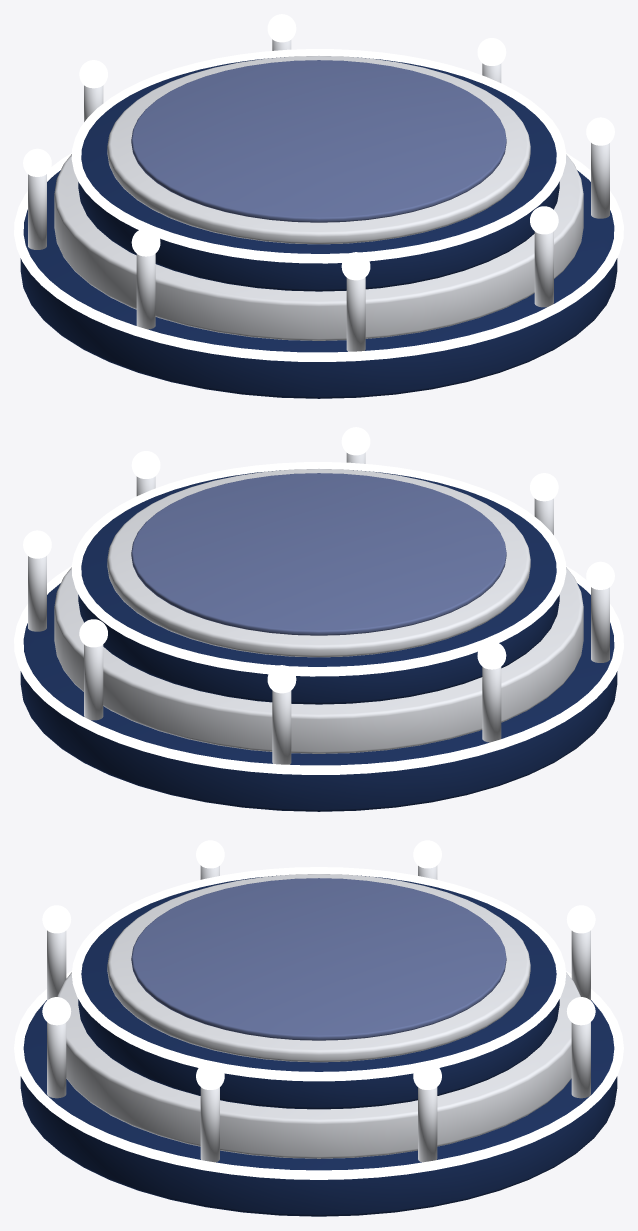
The model's file is podium-champions-great.glb.
3 views of the same model, one above another, from view 1: azimuth 30°, elevation 25°; view 2: azimuth 150°, elevation 25°; view 3: azimuth 270°, elevation 25° (orthographic).
Visible parts, largest first — view 1: deck, base, tier, tier2, top, Torus.001, Torus, Cylinder.006, Cylinder.004, Cylinder.005, Cylinder.007, Cylinder.003 (+8 smaller); view 2: deck, base, tier, tier2, top, Torus.001, Torus, Cylinder.001, Cylinder.003, Cylinder.002, Cylinder, Cylinder.004 (+8 smaller); view 3: deck, base, tier, tier2, top, Torus.001, Torus, Cylinder.001, Cylinder.006, Cylinder, Cylinder.007, Cylinder.002 (+9 smaller).
Boxes of the visible parts, x1,y1,x2,y2 form: deck: [131, 60, 506, 222]; base: [20, 170, 617, 398]; tier: [54, 154, 583, 340]; tier2: [78, 57, 559, 291]; top: [107, 56, 530, 244]; Torus.001: [71, 49, 566, 263]; Torus: [14, 153, 623, 361]; Cylinder.006: [534, 231, 553, 307]; Cylinder.004: [136, 254, 155, 329]; Cylinder.005: [346, 277, 365, 351]; Cylinder.007: [591, 143, 609, 218]; Cylinder.003: [28, 174, 46, 249]; deck: [131, 473, 506, 635]; base: [20, 583, 617, 811]; tier: [54, 567, 583, 753]; tier2: [78, 470, 559, 704]; top: [107, 469, 530, 657]; Torus.001: [71, 462, 566, 676]; Torus: [14, 566, 623, 774]; Cylinder.001: [84, 644, 103, 720]; Cylinder.003: [482, 667, 501, 742]; Cylinder.002: [272, 690, 291, 764]; Cylinder: [28, 556, 46, 631]; Cylinder.004: [591, 587, 609, 662]; deck: [131, 878, 506, 1040]; base: [20, 1000, 617, 1216]; tier: [57, 972, 580, 1158]; tier2: [78, 875, 559, 1109]; top: [107, 874, 530, 1062]; Torus.001: [71, 867, 566, 1081]; Torus: [14, 971, 623, 1179]; Cylinder.001: [571, 1022, 590, 1098]; Cylinder.006: [47, 1022, 66, 1098]; Cylinder: [418, 1087, 437, 1162]; Cylinder.007: [200, 1087, 219, 1162]; Cylinder.002: [571, 930, 590, 1000].
Size of the model in its own units: 6.34 by 1.6 by 6.34.
